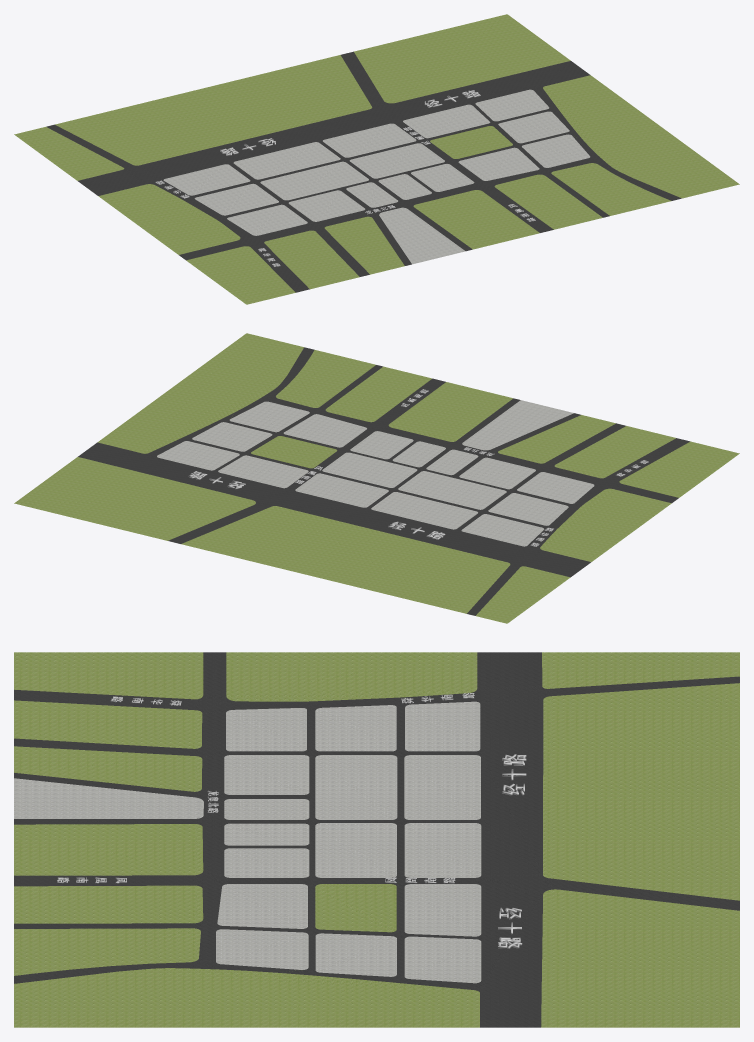
3 renders of one model, top to bottom at view 1: azimuth 30°, elevation 25°; view 2: azimuth 150°, elevation 25°; view 3: azimuth 270°, elevation 25°, orthographic. The views are drawn at different scales.
Parts seen in each view (by area): view 1: LU; view 2: LU; view 3: LU.
Boxes of the visible parts, <box> form: LU: <box>14,14,739,304</box>; LU: <box>14,333,739,623</box>; LU: <box>14,652,739,1027</box>.
Bounding box in the file's own units: 189812 × 493 × 155039.
4 materials, 3 textured.
